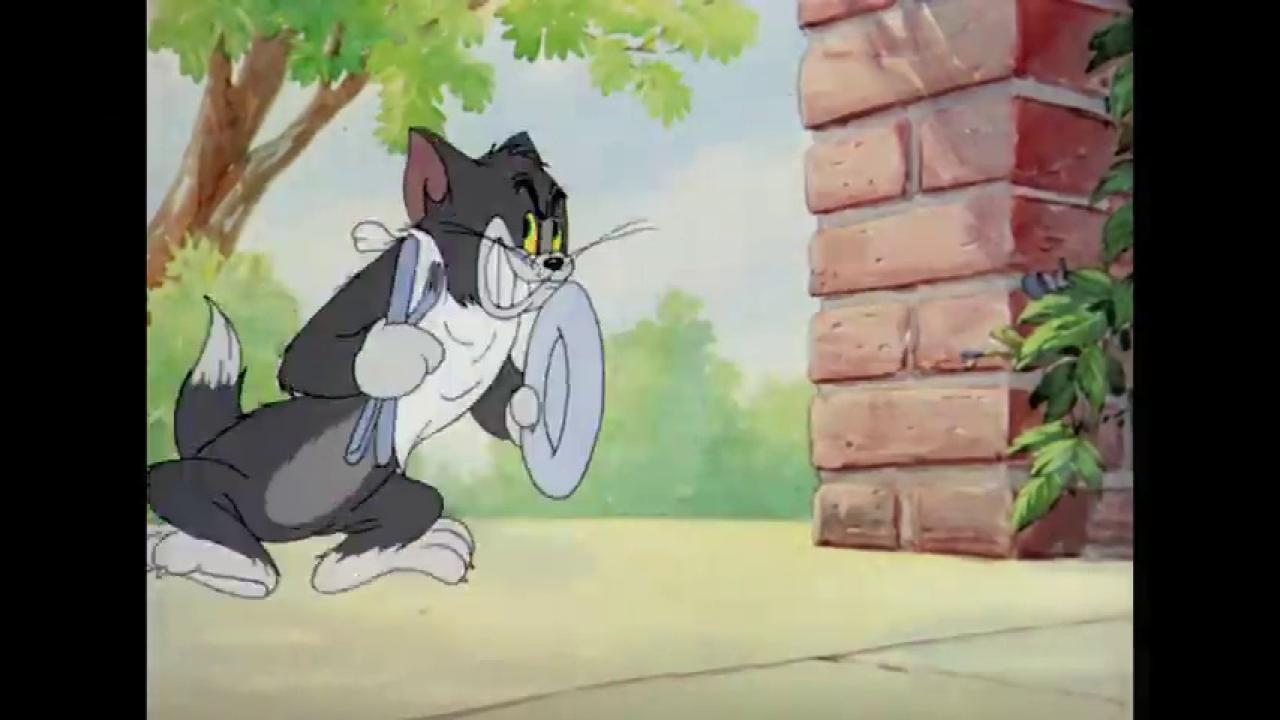Tom: (146, 124, 575, 601)
